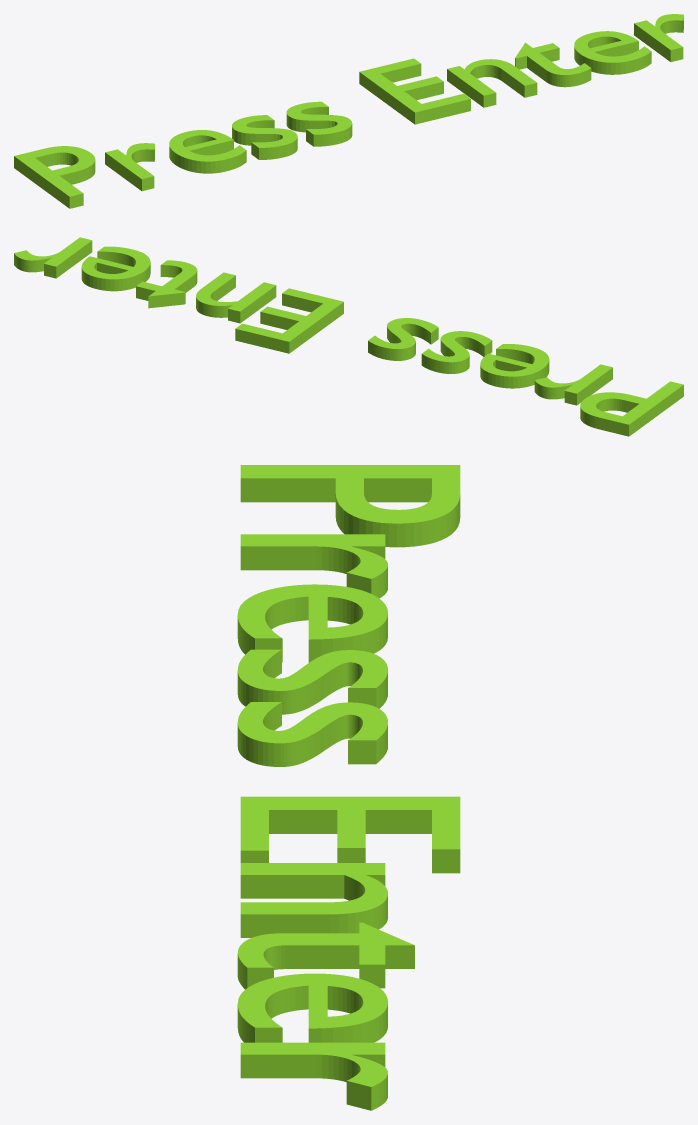
The model's file is Press Enter.gltf.
3 views of the same model, one above another, from view 1: azimuth 30°, elevation 25°; view 2: azimuth 150°, elevation 25°; view 3: azimuth 270°, elevation 25° (orthographic). The views are drawn at different scales.
Parts seen in each view (by area): view 1: テキスト; view 2: テキスト; view 3: テキスト.
Part boxes in pixels (x1,y1,x2,y2): テキスト: (14,14,683,208); テキスト: (14,237,683,436); テキスト: (237,465,460,1110).
Size of the model in its own units: 4.57 by 0.0814 by 0.691.
